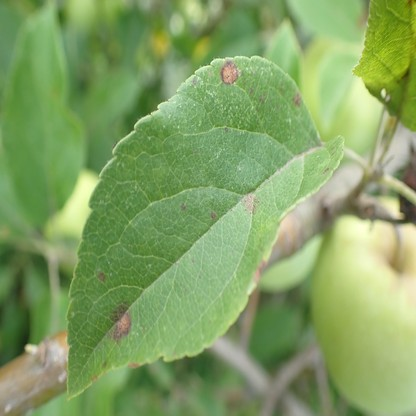frogeye_leaf_spot: (111, 304, 130, 341), (220, 59, 240, 84)
scab: (256, 217, 275, 248)
